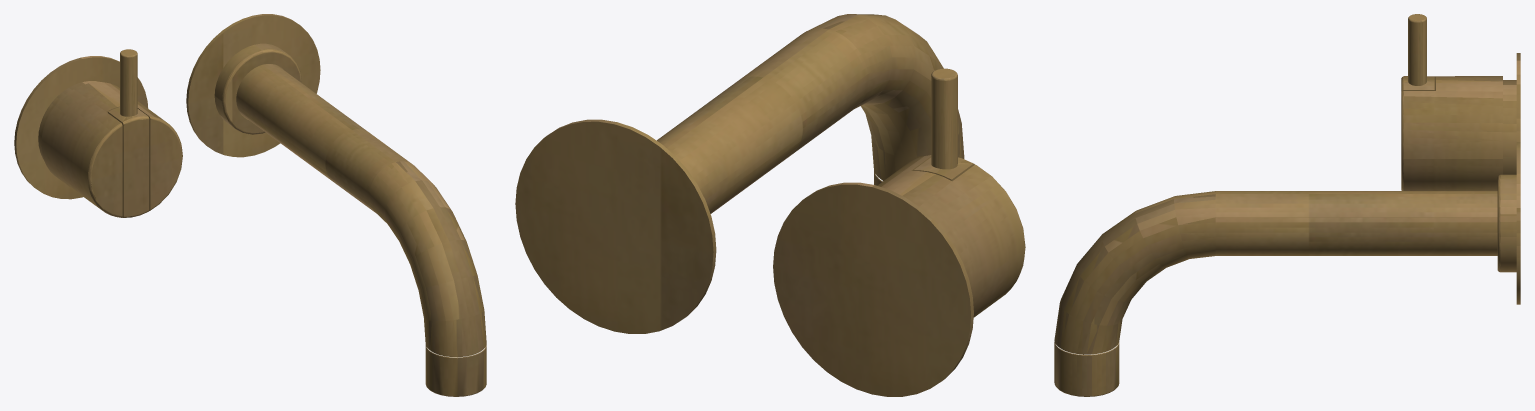
Rendered from basin_tap_wall.glb.
The picture shows the model from 3 angles, left to right: view 1: azimuth 30°, elevation 25°; view 2: azimuth 150°, elevation 25°; view 3: azimuth 270°, elevation 25°; orthographic projection. The views are drawn at different scales.
Visible parts, largest first — view 1: Geom3D (×2); view 2: Geom3D; view 3: Geom3D.
Boxes of the visible parts, box(x1,y1,x2,y2) form: Geom3D (×2): box(14, 14, 486, 396); Geom3D: box(515, 14, 1025, 396); Geom3D: box(1054, 14, 1520, 396).
Bounding box in the file's own units: 0.138 × 0.1127 × 0.172.
2 materials, 1 textured.
